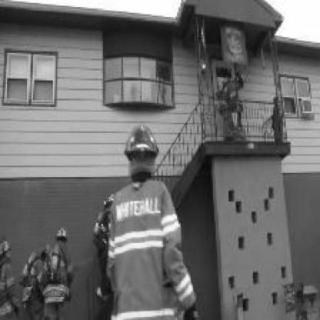other: (211, 26, 253, 66), (110, 226, 178, 250), (124, 149, 157, 179), (200, 56, 206, 77)
